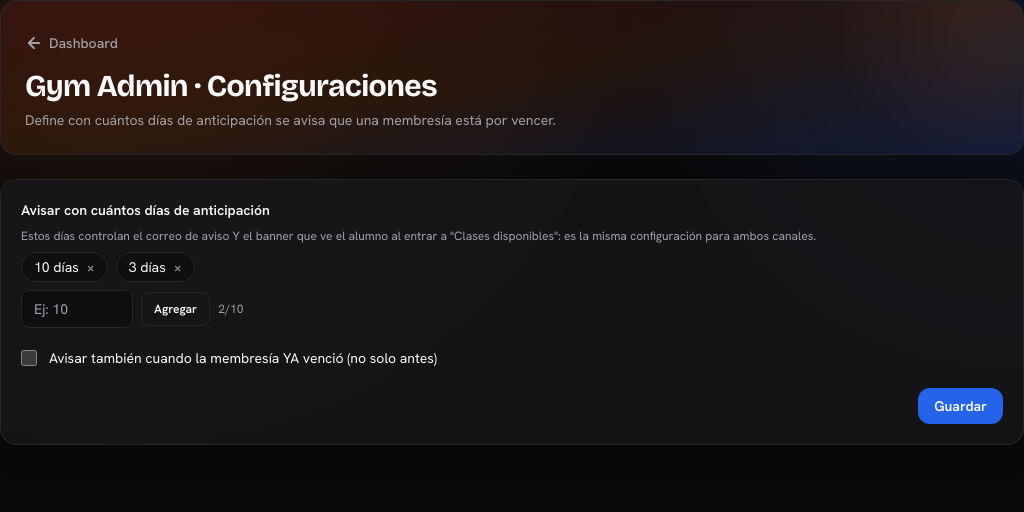
it: GymAdminExpiryNotificationConfigPage — guardar (PUT) › manda reminder_days_before como lista de enteros y send_expired_notice como bool
Expected: the text "10 días" is shown, [21,252,108,282]
Type "1" into the number field named "Días de anticipación a agregar" at point(77, 309), box [21,290,133,328]
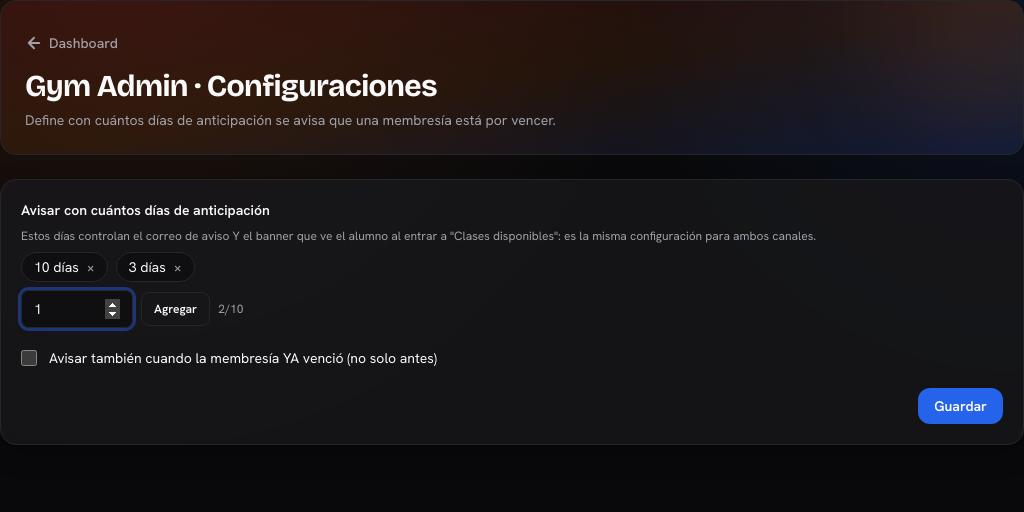
Click the button "Agregar" at point(176, 309), box [141,292,210,326]
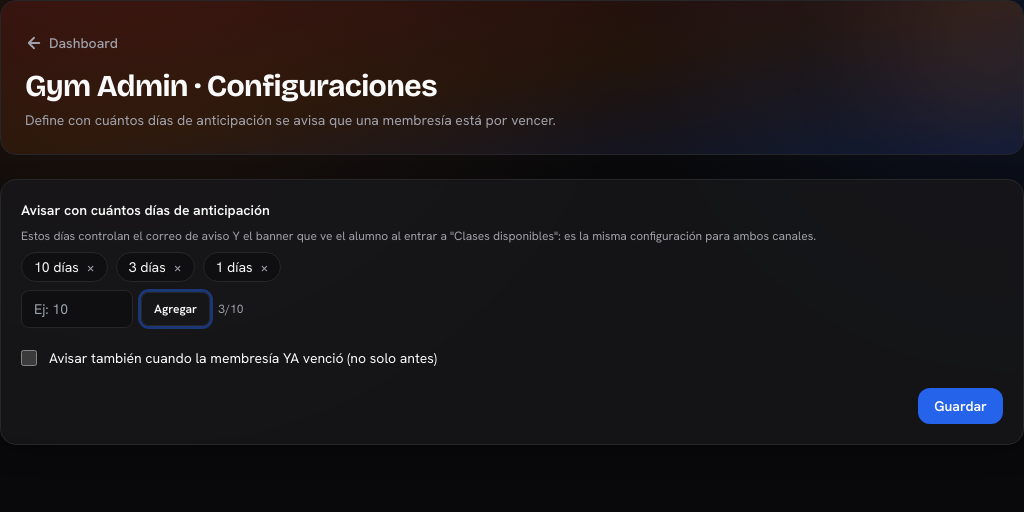
Expected: the text "1 días" is shown, [203,252,282,282]
Click the checkbox at point(29, 358), box [21,350,37,366]
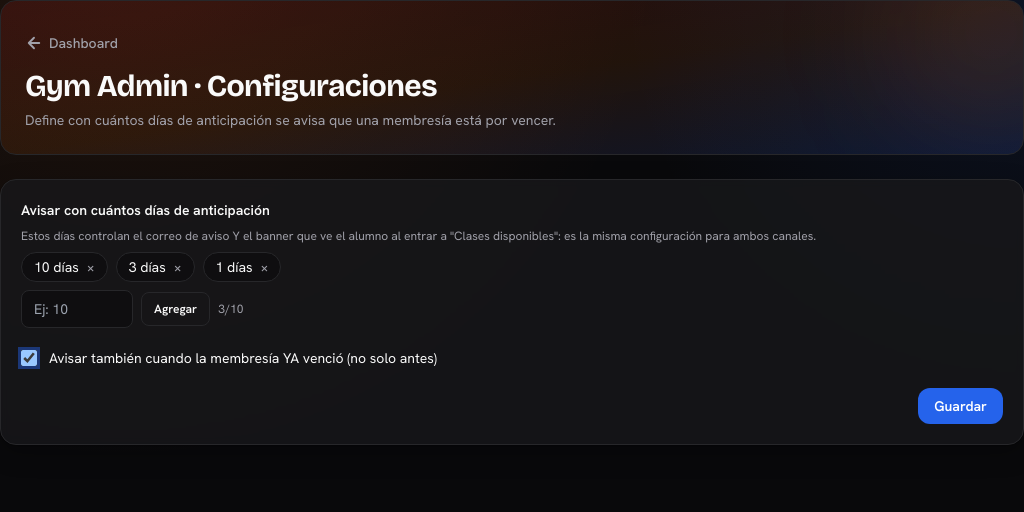
Click the button "Guardar" at point(961, 406), box [918,388,1003,424]
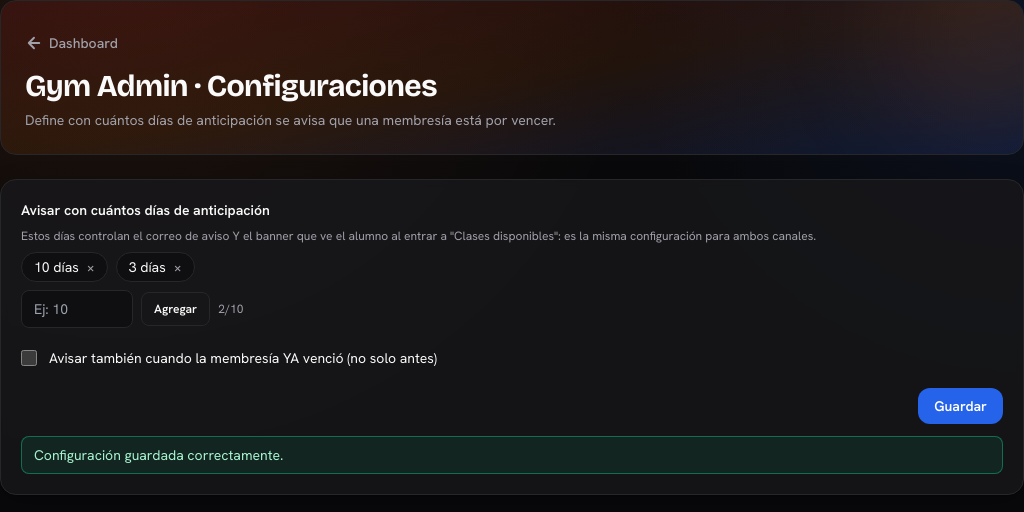
Expected: the text "Configuración guardada correctamente." is shown, [21,436,1003,474]
